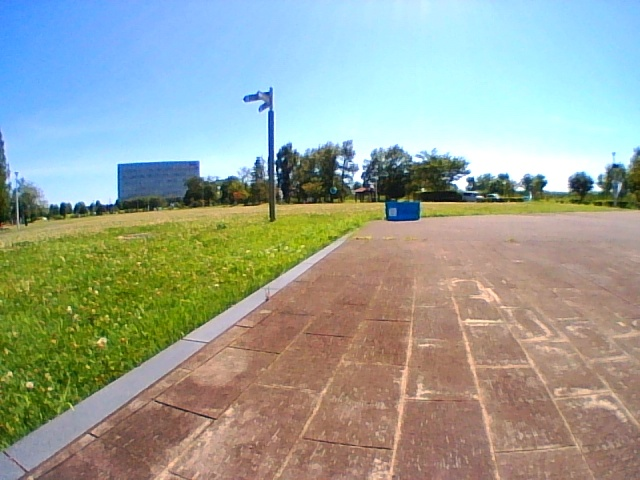blue_box: (386, 202, 419, 220)
tag: (390, 208, 395, 215)
